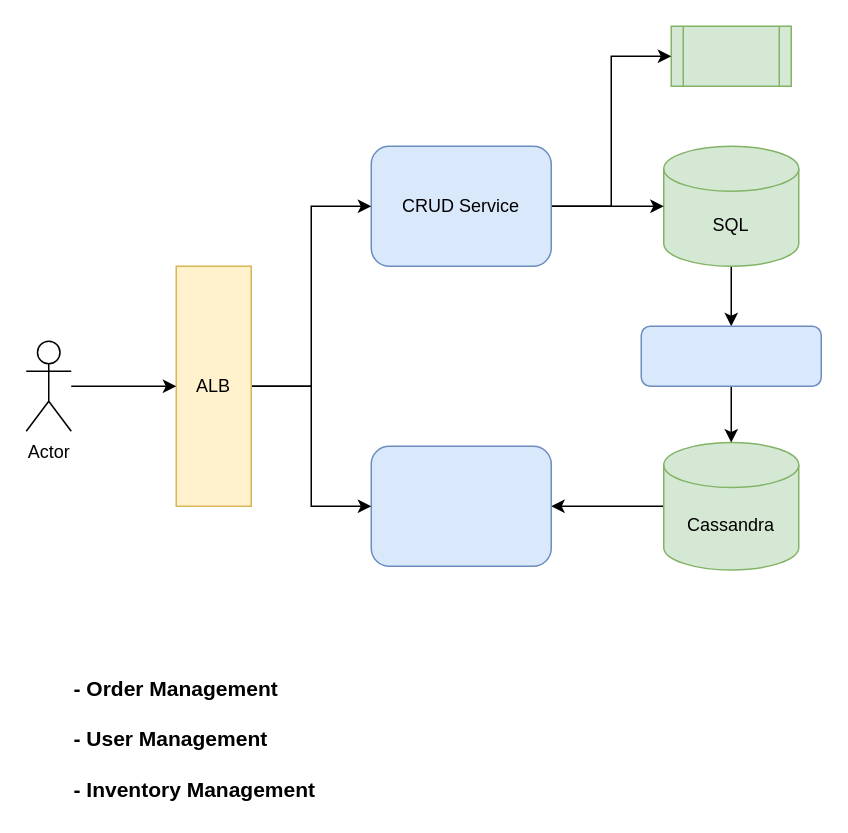
Some shapes in this 848 by 833 pixel diagram are drawn without their labels. Here are the shapes that lost their labels. From the top down, the centre of each, then its label:
(730,55): Cache
(730,355): Archival Service
(460,505): View History Service
